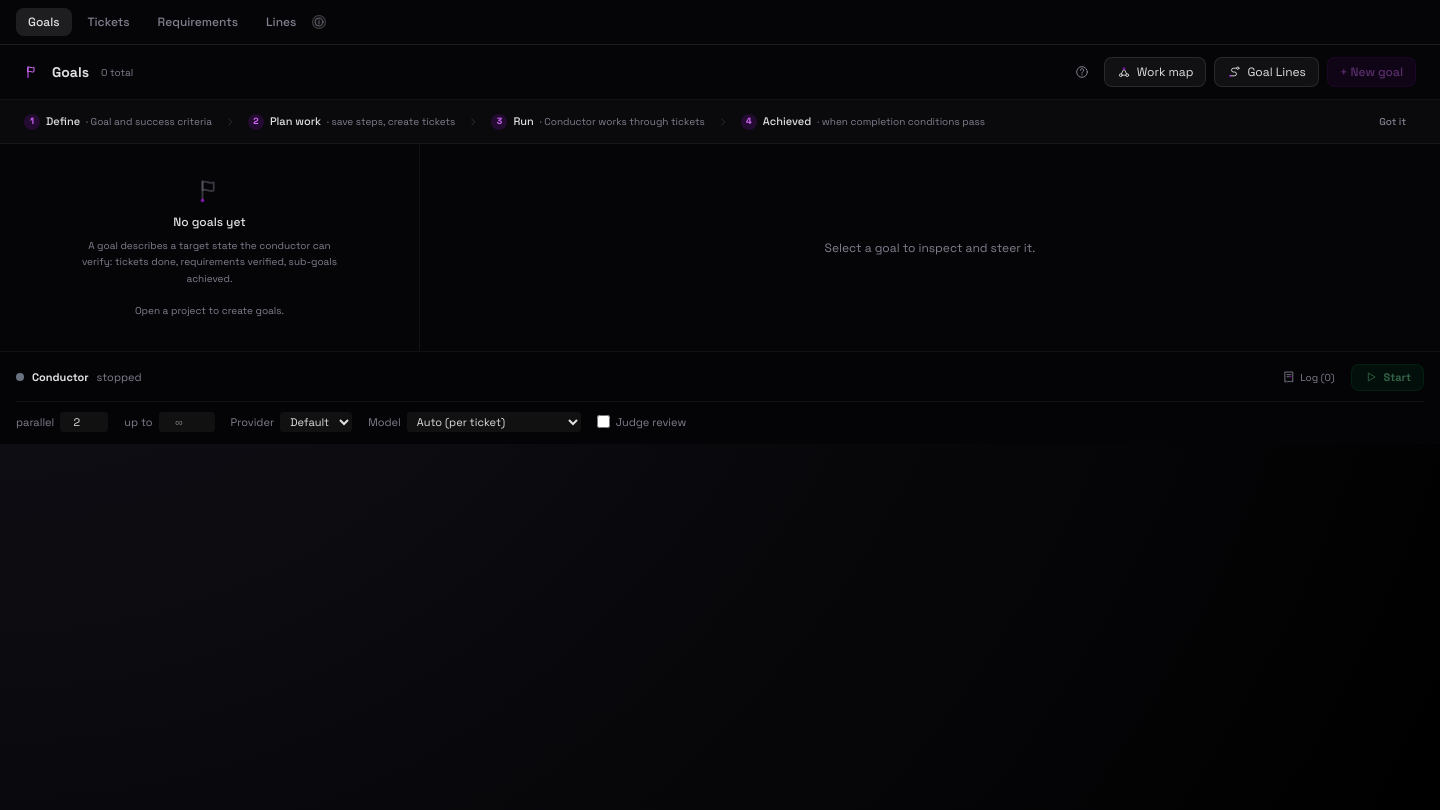
Scenario: WorkView › switches the hosted body when a tab is selected
This screenshot has width=1440, height=810.
Click the tab "Tickets" at (109, 22), box x1=76 y1=8 x2=142 y2=36
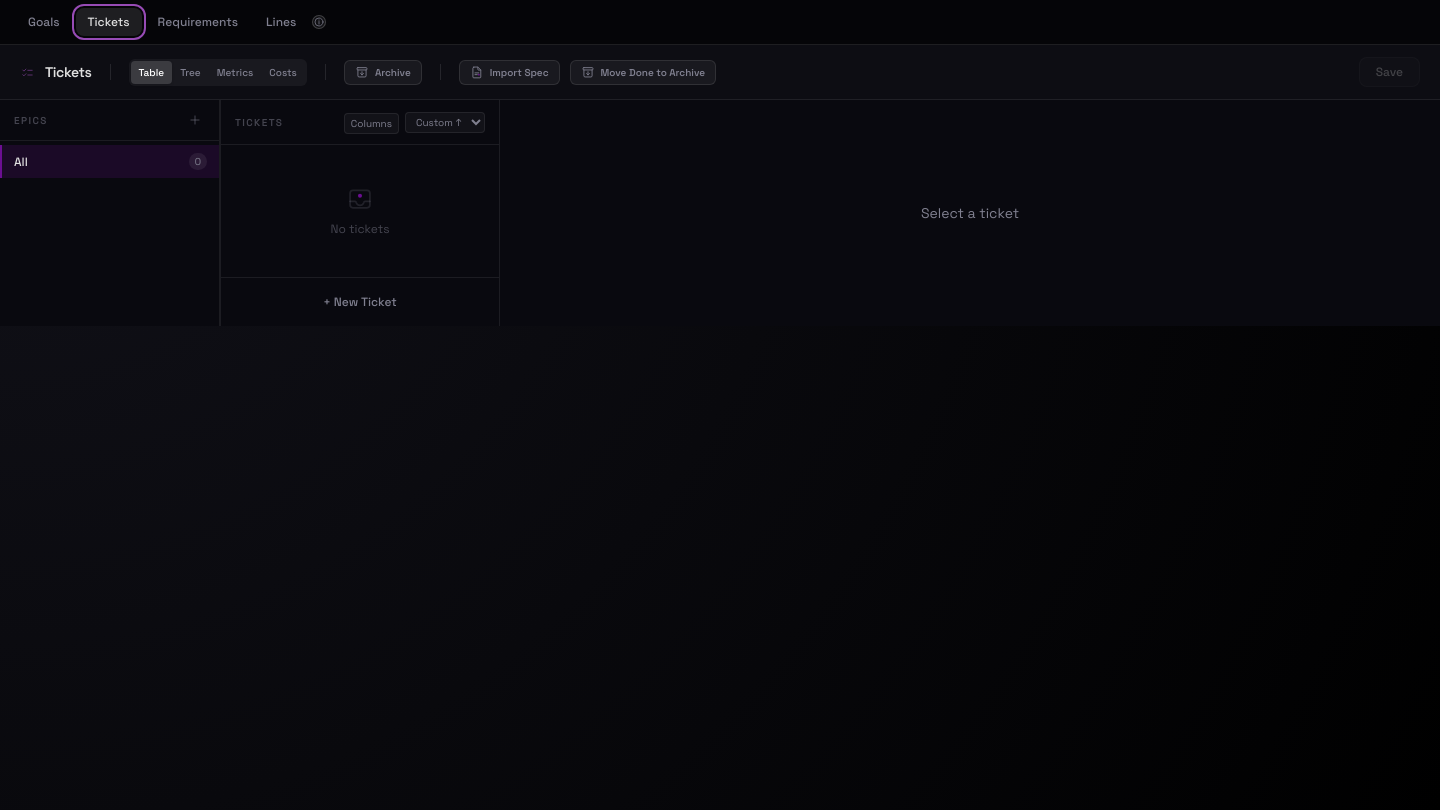
Expected: the element with test id "work-panel-tickets" is shown, x1=0 y1=45 x2=1439 y2=326
Expected: the element with test id "work-panel-goals" is gone
